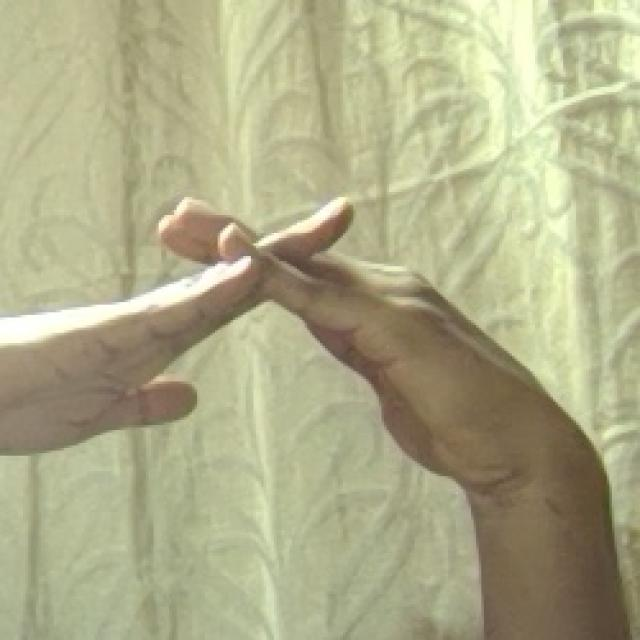Alphabet-W: (21, 144, 507, 530)
